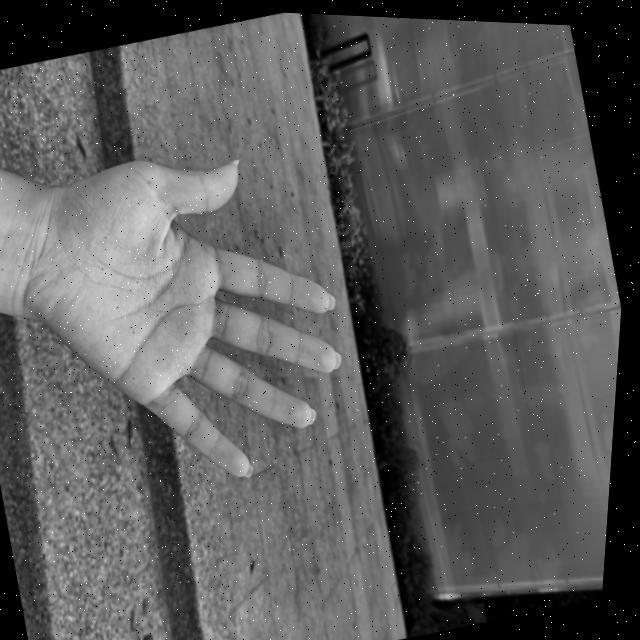no-gloves: (0, 84, 386, 535)
